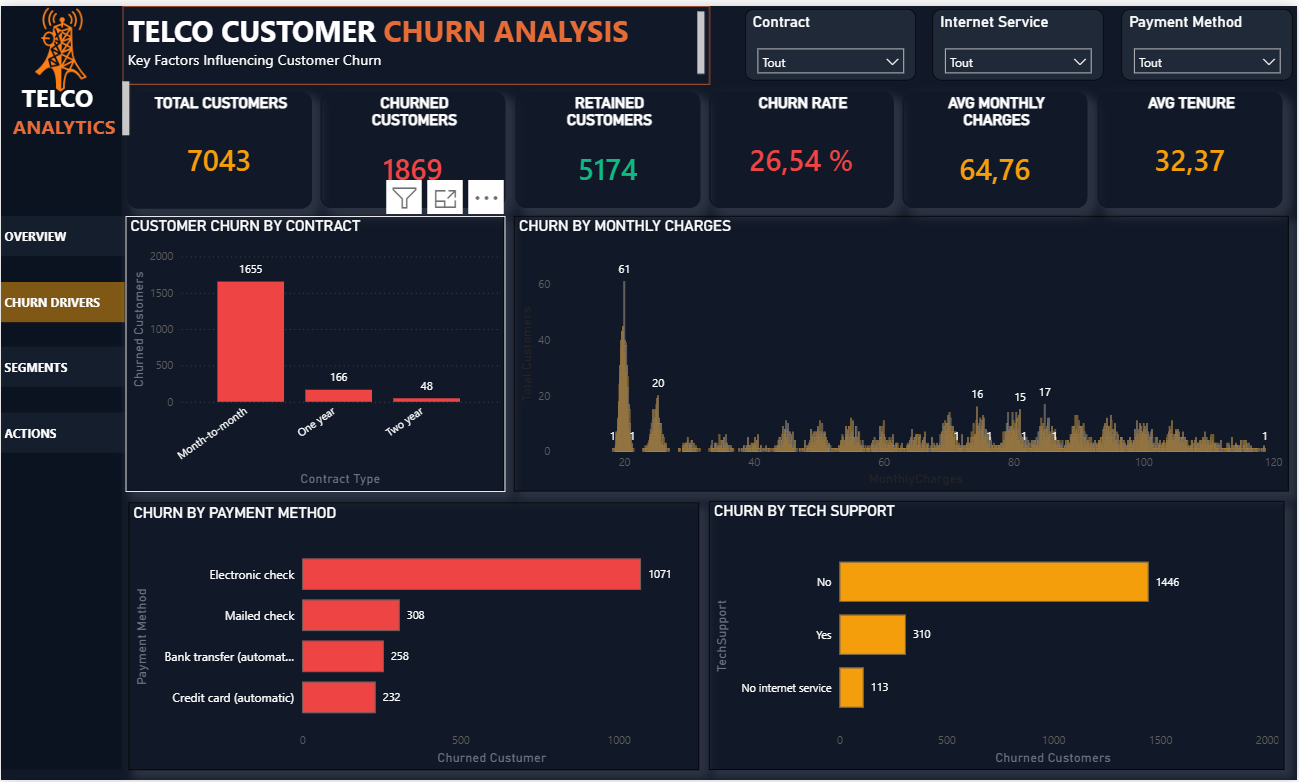

Layout of this report page (visuals, bound fields, positions):
{"tool":"powerbi","page":{"name":"Churn Drivers","canvas":[1440,860],"ordinal":1},"visuals":[{"type":"shape","box":[0,0,134,848.6],"z":0},{"type":"textbox","box":[135.7,0,652.7,87.6],"z":1000},{"type":"cardVisual","title":"TOTAL CUSTOMERS","fields":{"Data":["WA_Fn-UseC_-Telco-Customer-Churn.Total Customers"]},"box":[139.7,95.4,205,130],"z":2000},{"type":"cardVisual","title":"CHURNED CUSTOMERS","fields":{"Data":["WA_Fn-UseC_-Telco-Customer-Churn.Churned Customers"]},"box":[355.3,95.4,205,129.5],"z":3000},{"type":"cardVisual","title":"RETAINED CUSTOMERS","fields":{"Data":["WA_Fn-UseC_-Telco-Customer-Churn.Retained Customers"]},"box":[571,95.4,205,129.5],"z":4000},{"type":"cardVisual","title":"CHURN RATE","fields":{"Data":["WA_Fn-UseC_-Telco-Customer-Churn.Churn Rate"]},"box":[786.7,95.4,205,129.5],"z":5000},{"type":"cardVisual","title":"AVG MONTHLY CHARGES","fields":{"Data":["WA_Fn-UseC_-Telco-Customer-Churn.AVG Monthly Charges"]},"box":[1002.3,95.4,205,129.5],"z":6000},{"type":"cardVisual","title":"AVG TENURE","fields":{"Data":["WA_Fn-UseC_-Telco-Customer-Churn.AVG Tenure"]},"box":[1218,95.4,205,129.5],"z":7000},{"type":"clusteredColumnChart","title":"CUSTOMER CHURN BY CONTRACT","fields":{"Category":["WA_Fn-UseC_-Telco-Customer-Churn.Contract"],"Y":["WA_Fn-UseC_-Telco-Customer-Churn.Churned Customers"]},"box":[139.1,233.6,420.8,305.8],"z":8000},{"type":"clusteredColumnChart","title":"CHURN BY MONTHLY CHARGES","fields":{"Y":["WA_Fn-UseC_-Telco-Customer-Churn.Total Customers"],"Category":["WA_Fn-UseC_-Telco-Customer-Churn.MonthlyCharges"]},"box":[570.3,233.6,860.6,305.8],"z":9000},{"type":"clusteredBarChart","title":" CHURN BY PAYMENT METHOD","fields":{"Category":["WA_Fn-UseC_-Telco-Customer-Churn.PaymentMethod"],"Y":["WA_Fn-UseC_-Telco-Customer-Churn.Churned Customers"]},"box":[140.9,551.4,633.8,297.2],"z":10000},{"type":"clusteredBarChart","title":"CHURN BY TECH SUPPORT","fields":{"Category":["WA_Fn-UseC_-Telco-Customer-Churn.TechSupport"],"Y":["WA_Fn-UseC_-Telco-Customer-Churn.Churned Customers"]},"box":[786.7,549.7,639,298.9],"z":11000},{"type":"textbox","box":[0,79,147.7,87.6],"z":12000},{"type":"actionButton","title":"OVERVIEW","box":[0,233.6,137.4,44.7],"z":13000},{"type":"actionButton","title":"OVERVIEW","box":[0,306.3,137.4,44.7],"z":14000},{"type":"actionButton","title":"OVERVIEW","box":[0,379,137.4,44.7],"z":15000},{"type":"actionButton","title":"OVERVIEW","box":[0,451.8,137.4,44.7],"z":16000},{"type":"slicer","title":"Contract","fields":{"Values":["WA_Fn-UseC_-Telco-Customer-Churn.Contract"]},"box":[826.2,3.4,190,79],"z":17000},{"type":"slicer","title":"Internet Service","fields":{"Values":["WA_Fn-UseC_-Telco-Customer-Churn.InternetService"]},"box":[1035.8,3.4,190,79],"z":18000},{"type":"slicer","title":"Payment  Method","fields":{"Values":["WA_Fn-UseC_-Telco-Customer-Churn.PaymentMethod"]},"box":[1245.4,3.4,190,79],"z":19000},{"type":"image","box":[0,0,134,96.2],"z":20000}]}

Visuals, with their boxes in screenshot pixels (x1, y1, x2, y2), scaled from the page's 1440x860 canvas onto the 1299x782 screenshot:
shape: region(0, 0, 121, 772)
textbox: region(122, 0, 711, 80)
"TOTAL CUSTOMERS" cardVisual: region(126, 87, 311, 205)
"CHURNED CUSTOMERS" cardVisual: region(321, 87, 505, 205)
"RETAINED CUSTOMERS" cardVisual: region(515, 87, 700, 205)
"CHURN RATE" cardVisual: region(710, 87, 895, 205)
"AVG MONTHLY CHARGES" cardVisual: region(904, 87, 1089, 205)
"AVG TENURE" cardVisual: region(1099, 87, 1284, 205)
"CUSTOMER CHURN BY CONTRACT" clusteredColumnChart: region(125, 212, 505, 490)
"CHURN BY MONTHLY CHARGES" clusteredColumnChart: region(514, 212, 1291, 490)
" CHURN BY PAYMENT METHOD" clusteredBarChart: region(127, 501, 699, 772)
"CHURN BY TECH SUPPORT" clusteredBarChart: region(710, 500, 1286, 772)
textbox: region(0, 72, 133, 151)
"OVERVIEW" actionButton: region(0, 212, 124, 253)
"OVERVIEW" actionButton: region(0, 279, 124, 319)
"OVERVIEW" actionButton: region(0, 345, 124, 385)
"OVERVIEW" actionButton: region(0, 411, 124, 451)
"Contract" slicer: region(745, 3, 917, 75)
"Internet Service" slicer: region(934, 3, 1106, 75)
"Payment  Method" slicer: region(1123, 3, 1295, 75)
image: region(0, 0, 121, 87)
